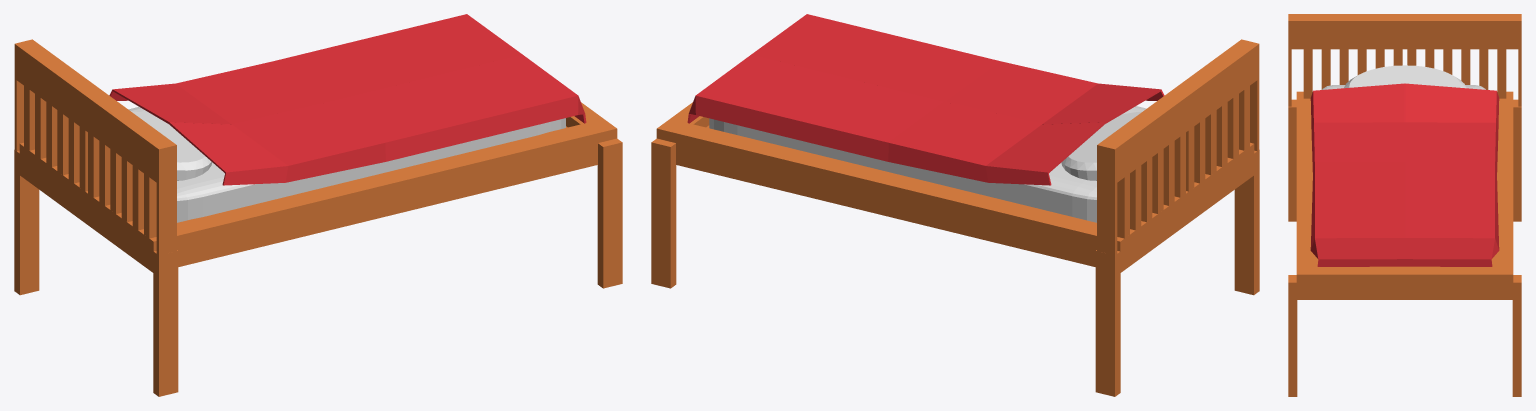
Rendered from singlebed.glb.
3 views of the same model, side by side, from view 1: azimuth 30°, elevation 25°; view 2: azimuth 150°, elevation 25°; view 3: azimuth 270°, elevation 25° (orthographic). The views are drawn at different scales.
Visible parts, largest first — view 1: Posts; view 2: Posts; view 3: Posts.
Part boxes in pixels (x1,y1,x2,y2): Posts: (14, 14, 622, 396); Posts: (651, 14, 1259, 396); Posts: (1288, 14, 1521, 396).
Size of the model in its own units: 4.8 by 2.45 by 2.59.
